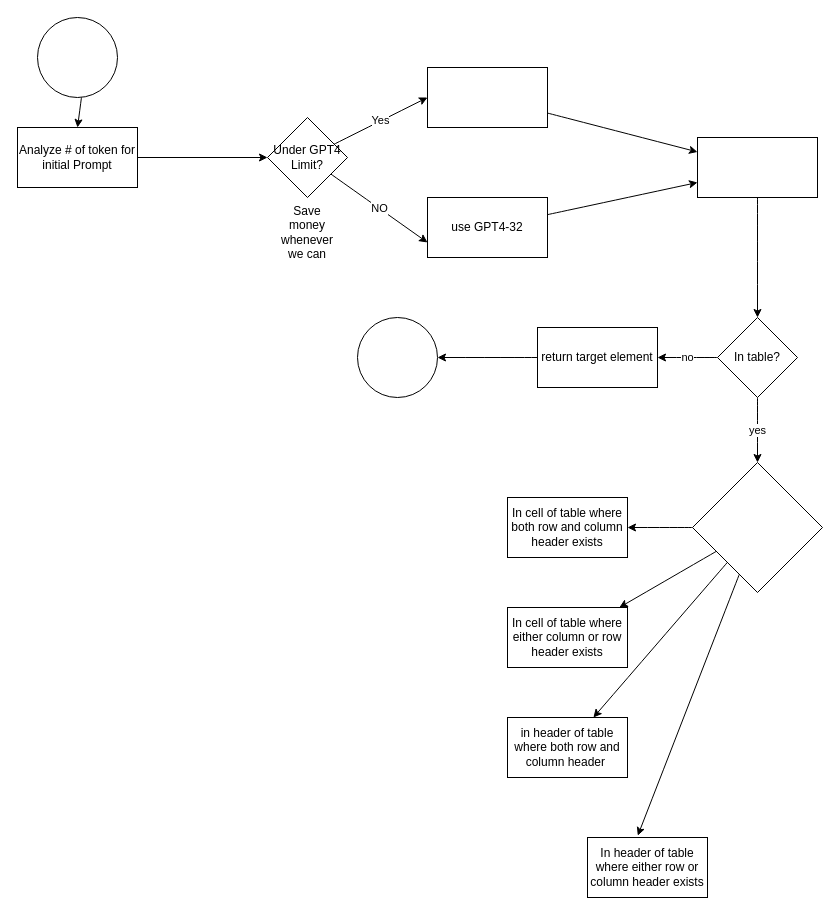
Image size: 840x915. Some labels were removed from this diagram. Here are the shapes that lost their labels. From the top down, the box of each, then its label:
(36, 16, 118, 98): START
(426, 66, 548, 128): use GPT4
(696, 136, 818, 198): Assemble Initial Prompt (System prompt initial+user prompt) and send to GPT
(356, 316, 438, 398): END-SUCCESS
(692, 462, 822, 592): Type of table?
